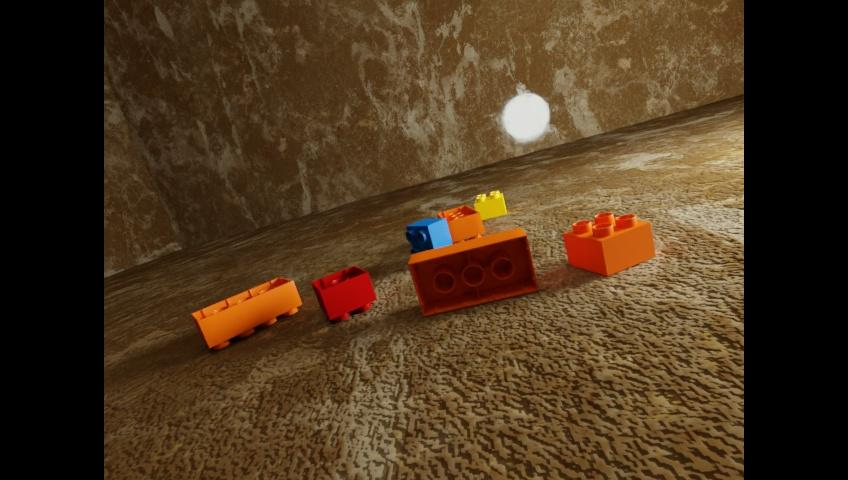2x2_blue: (405, 217, 451, 255)
2x2_orange: (563, 212, 654, 275)
2x2_red: (312, 266, 377, 322)
2x2_yellow: (474, 190, 507, 219)
4x2_orange: (407, 227, 538, 316), (191, 277, 302, 349), (437, 204, 483, 244)
